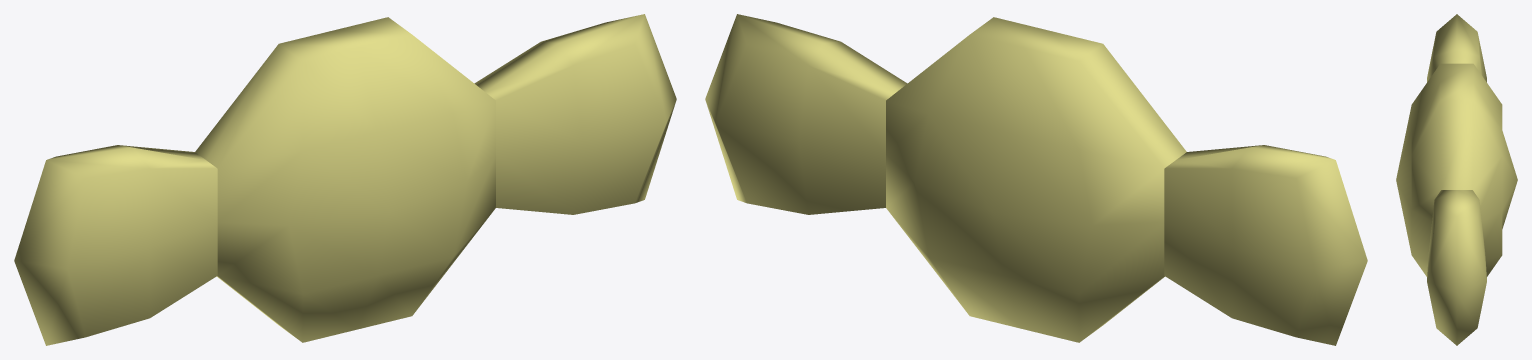
The model's file is bonbonJaune.fbx.
The picture shows the model from 3 angles, left to right: view 1: azimuth 30°, elevation 25°; view 2: azimuth 150°, elevation 25°; view 3: azimuth 270°, elevation 25°; orthographic projection. The views are drawn at different scales.
Parts seen in each view (by area): view 1: bonbon1; view 2: bonbon1; view 3: bonbon1.
Boxes of the visible parts, x1=… form: bonbon1: x1=14, y1=14, x2=676, y2=345; bonbon1: x1=705, y1=14, x2=1367, y2=345; bonbon1: x1=1396, y1=14, x2=1517, y2=345.
Bounding box in the file's own units: 109 × 44.08 × 24.9.
